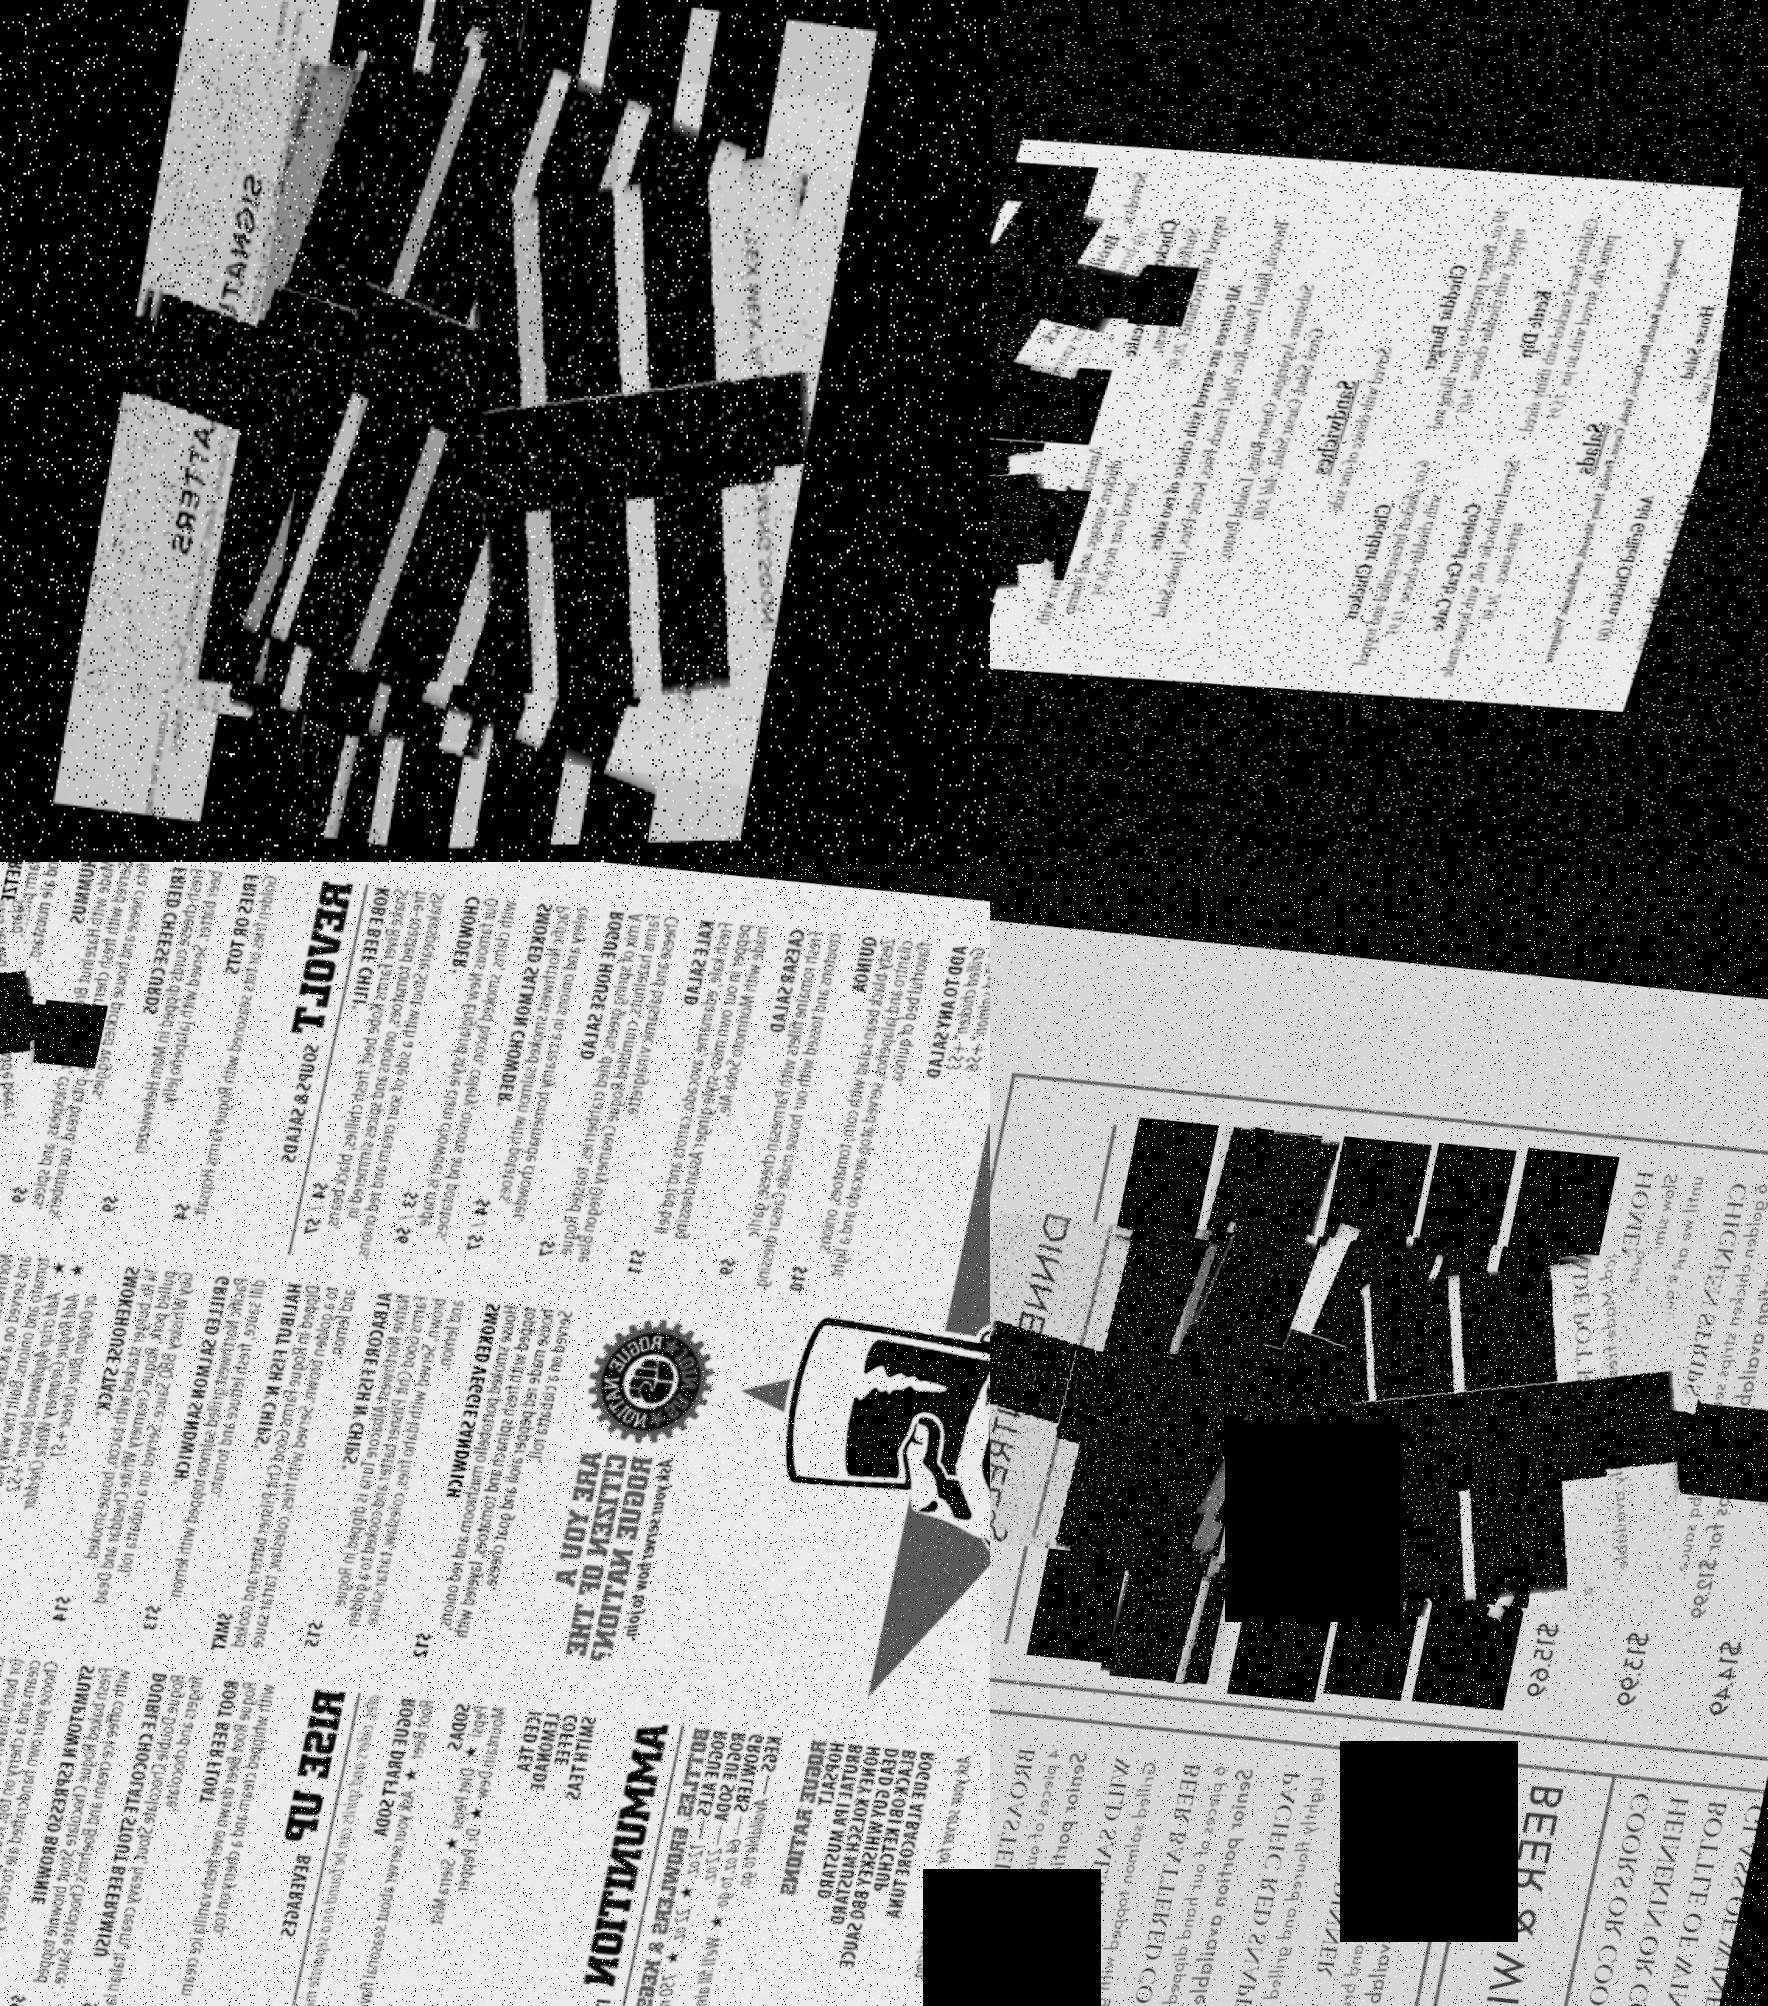Menu-Items: (261, 31, 870, 800), (203, 53, 795, 756), (79, 32, 635, 762), (420, 125, 858, 733), (297, 0, 526, 849), (1316, 1232, 1744, 1638), (1135, 1226, 1550, 1620), (1229, 1230, 1638, 1620), (990, 1208, 1328, 1578), (1126, 1126, 1340, 1692), (1531, 1155, 1722, 1723), (1630, 1168, 1768, 1735), (1133, 201, 1314, 629), (312, 1286, 493, 1675), (422, 1298, 604, 1678), (300, 878, 466, 1278), (58, 1254, 220, 1636), (218, 1281, 381, 1660), (628, 916, 788, 1291), (790, 935, 951, 1302), (539, 907, 695, 1276), (14, 861, 166, 1220), (394, 894, 536, 1264), (1253, 1759, 1464, 2006), (722, 928, 860, 1300), (0, 1233, 126, 1632), (154, 1273, 287, 1649), (1215, 258, 1370, 578), (1090, 1752, 1283, 2006), (471, 901, 602, 1271), (174, 865, 305, 1233), (24, 1656, 162, 2006), (1015, 1736, 1191, 2006), (99, 1668, 234, 2006), (106, 863, 232, 1221), (172, 1675, 307, 2006), (1188, 1759, 1352, 2006), (990, 1725, 1123, 2006), (1492, 200, 1640, 449), (1422, 447, 1573, 687), (1401, 191, 1548, 435), (1015, 432, 1176, 641), (0, 1644, 92, 2006), (1329, 444, 1473, 675), (990, 198, 1169, 377), (1715, 1186, 1768, 1752), (1041, 164, 1160, 408), (0, 861, 77, 1220), (1116, 201, 1242, 379), (0, 885, 73, 1155), (990, 447, 1097, 609), (1671, 271, 1739, 418), (928, 940, 990, 1093)
